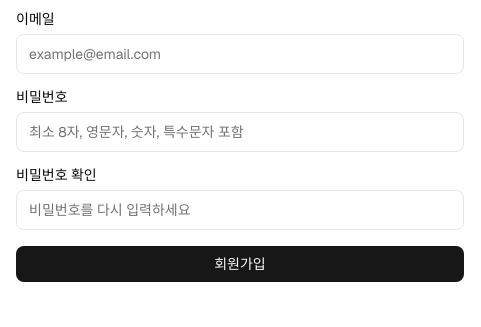
Test case: SignUpForm › 비밀번호에 영문자, 숫자, 특수문자가 없을 때 유효성 검사 오류를 표시한다
This screenshot has width=481, height=327.
Type "12345678" into the password field labelled "비밀번호" at (240, 132), box [16, 112, 464, 152]
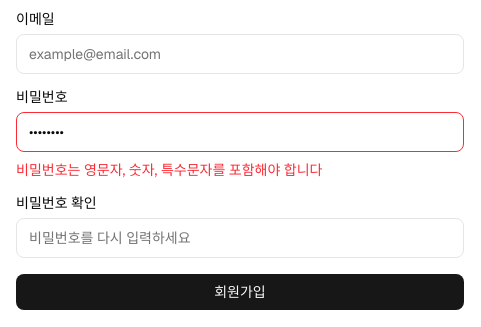
expect the text "비밀번호는 영문자, 숫자, 특수문자를 포함해야 합니다" is shown: met, box [16, 161, 322, 179]
